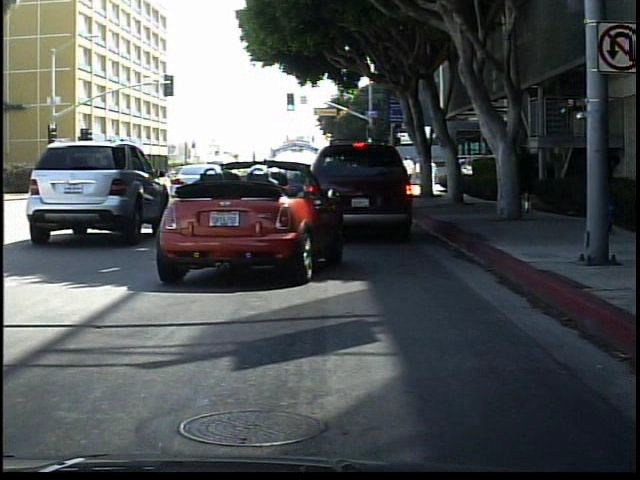person: (578, 132, 623, 240), (524, 142, 537, 216)
